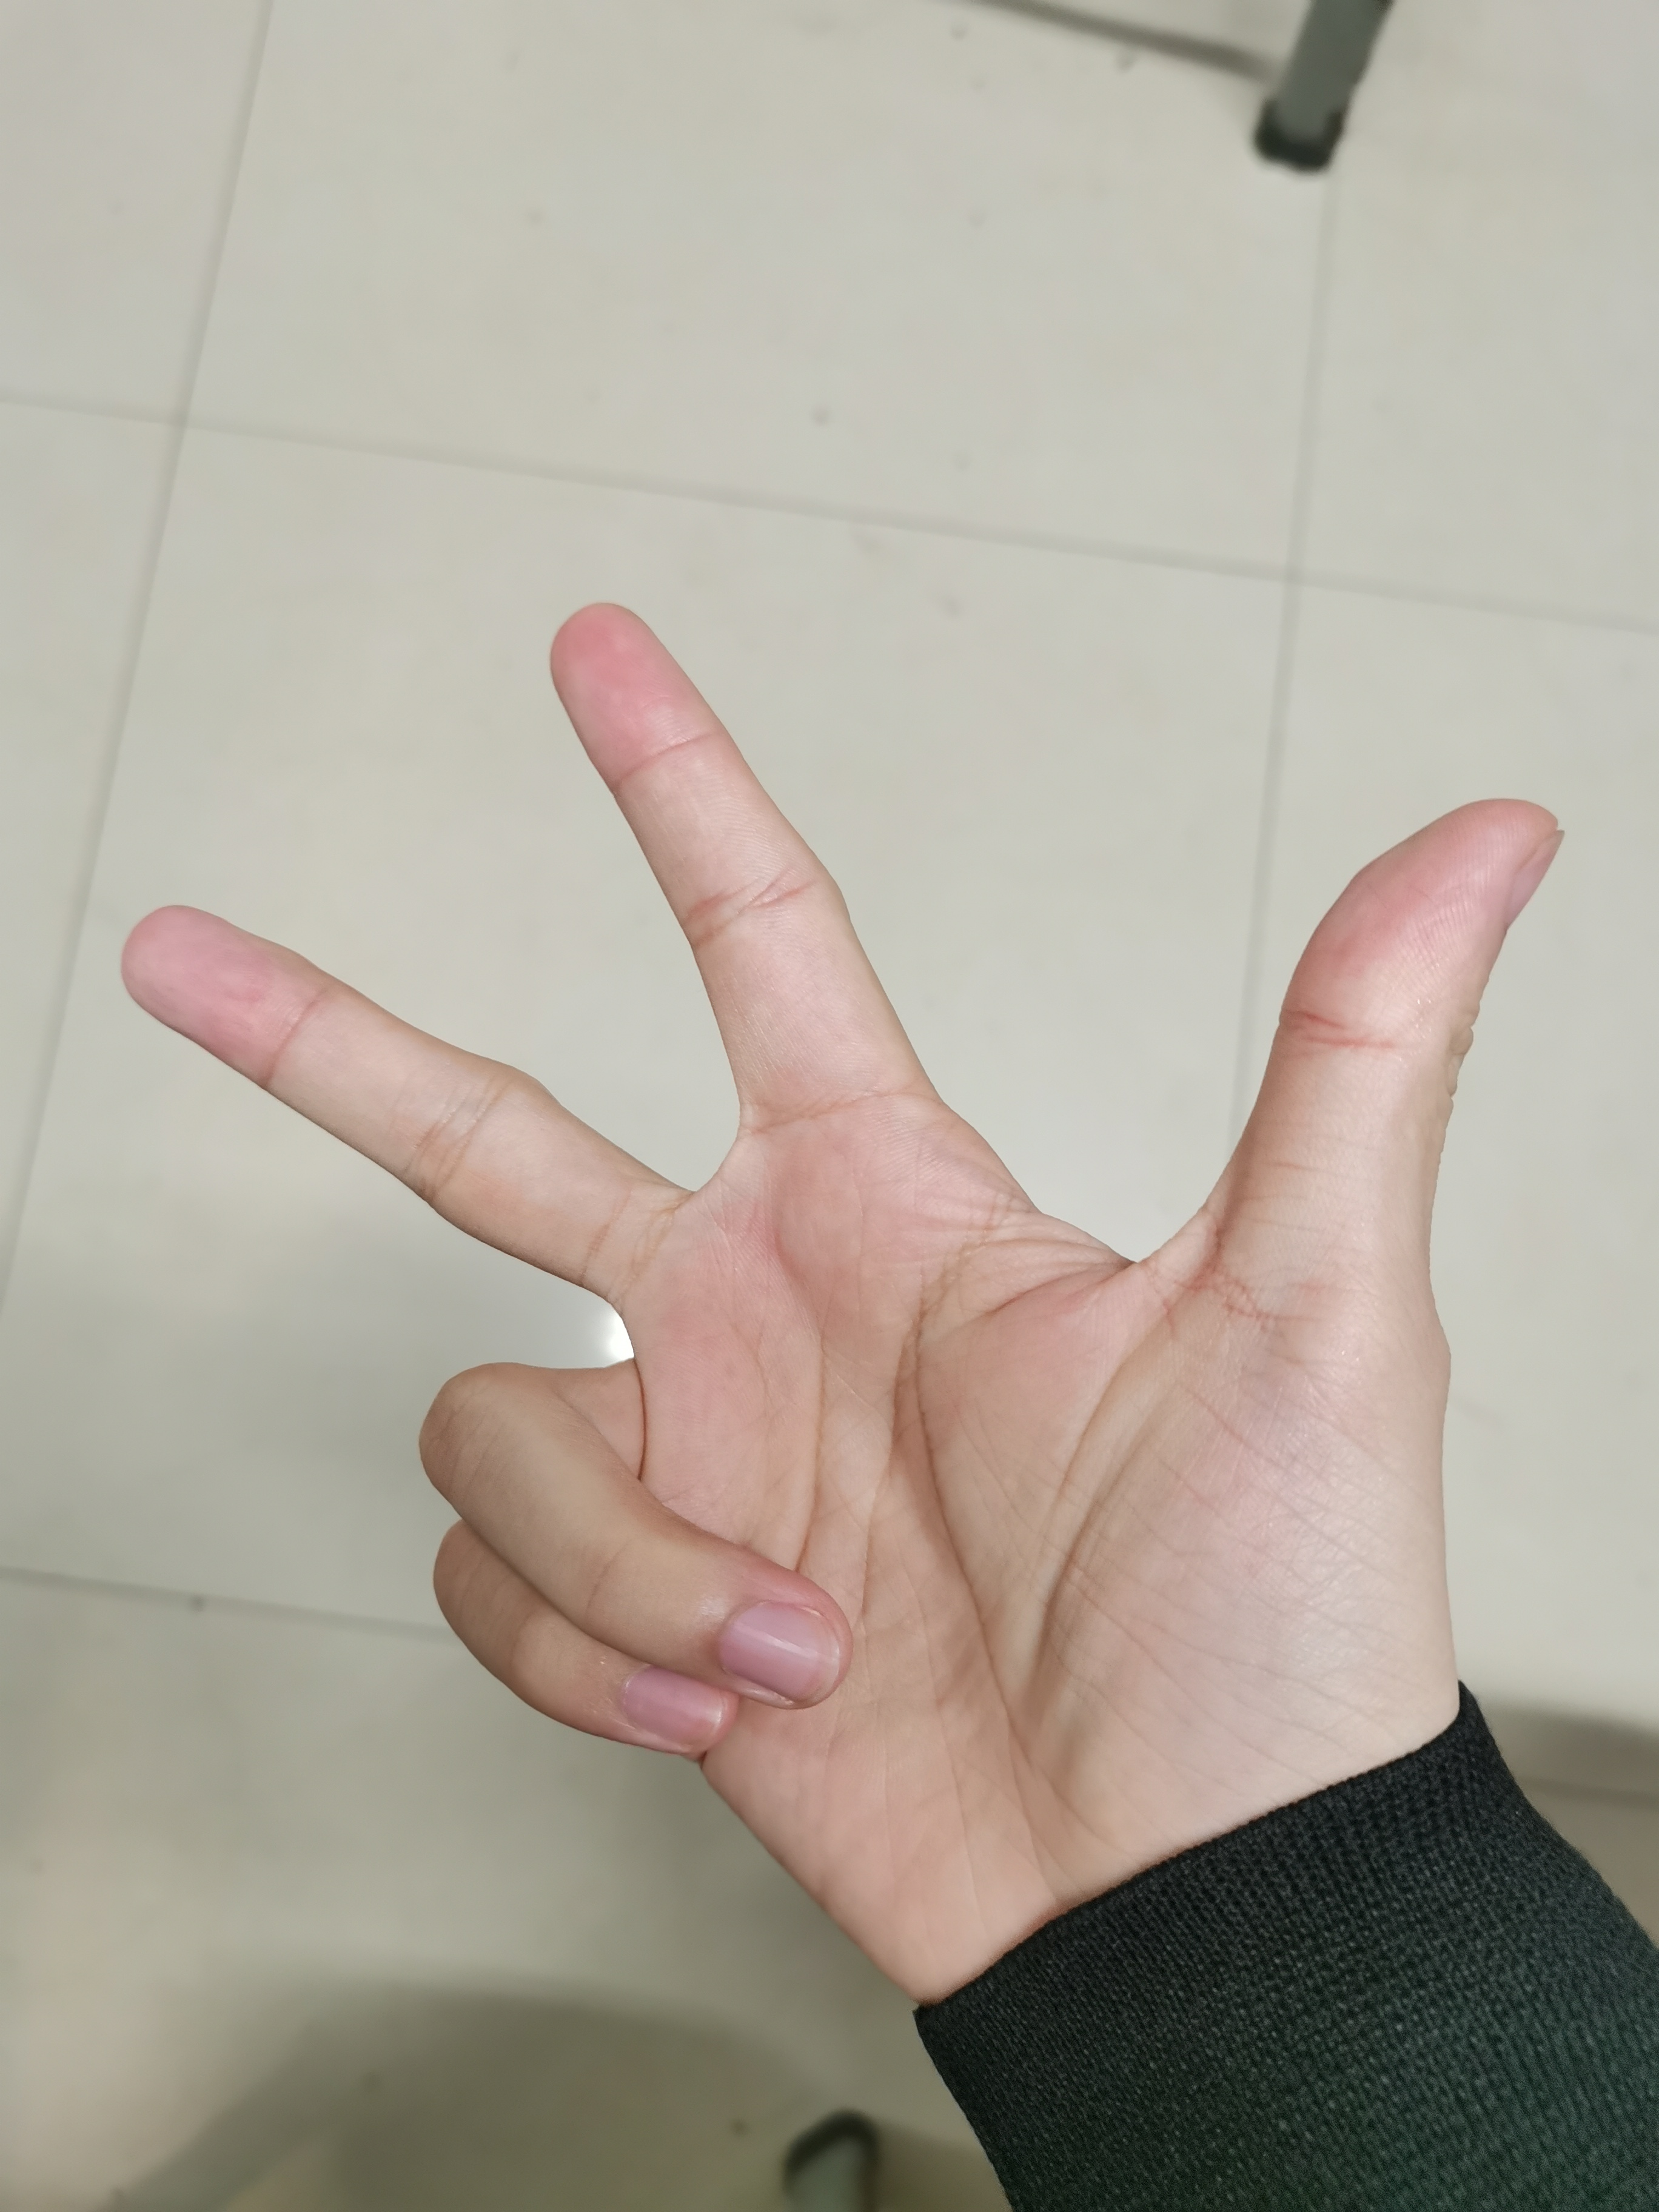no-phone: (96, 582, 1586, 1994)
